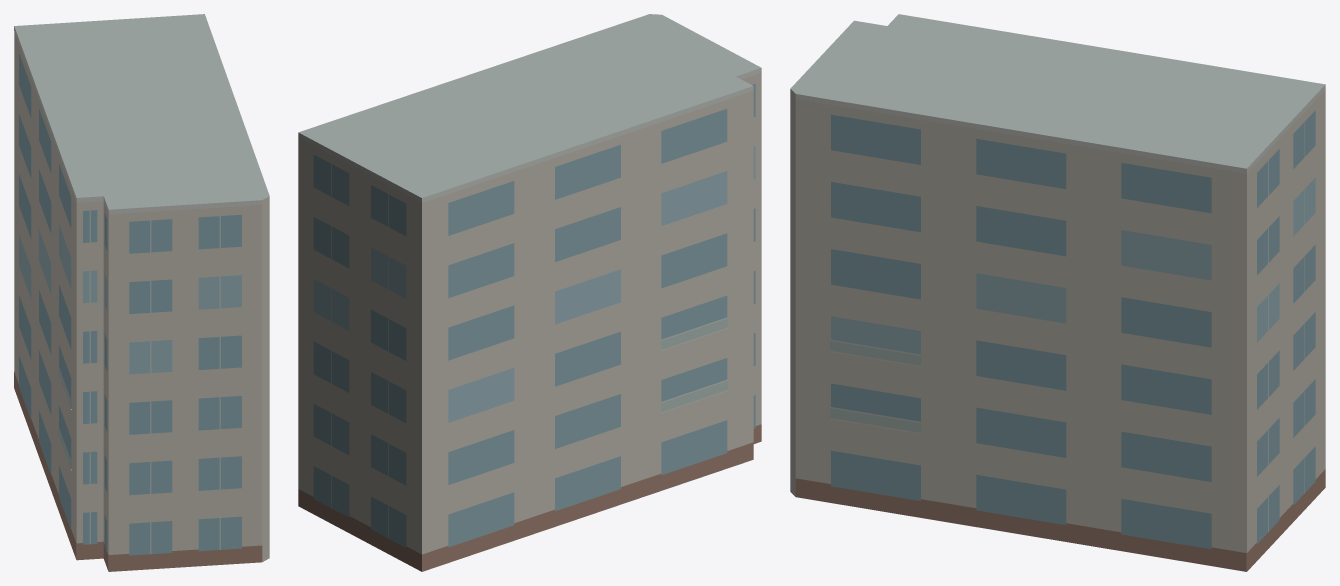
File: survey-upis-32977822.glb
3 renders of one model, left to right at view 1: azimuth 30°, elevation 25°; view 2: azimuth 150°, elevation 25°; view 3: azimuth 270°, elevation 25°, orthographic. The views are drawn at different scales.
Parts seen in each view (by area): view 1: survey-upis-32977822.tmp; view 2: survey-upis-32977822.tmp; view 3: survey-upis-32977822.tmp.
Part boxes in pixels (<box>): survey-upis-32977822.tmp: <box>14,14,269,571</box>; survey-upis-32977822.tmp: <box>298,14,761,571</box>; survey-upis-32977822.tmp: <box>790,14,1325,571</box>.
Bounding box in the file's own units: 15.48 × 18.8 × 22.63.
